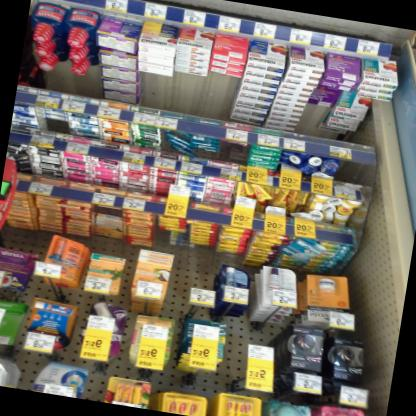empty_space: (42, 64, 93, 99), (197, 76, 233, 123), (167, 73, 201, 114), (293, 104, 332, 139), (136, 70, 170, 110)
